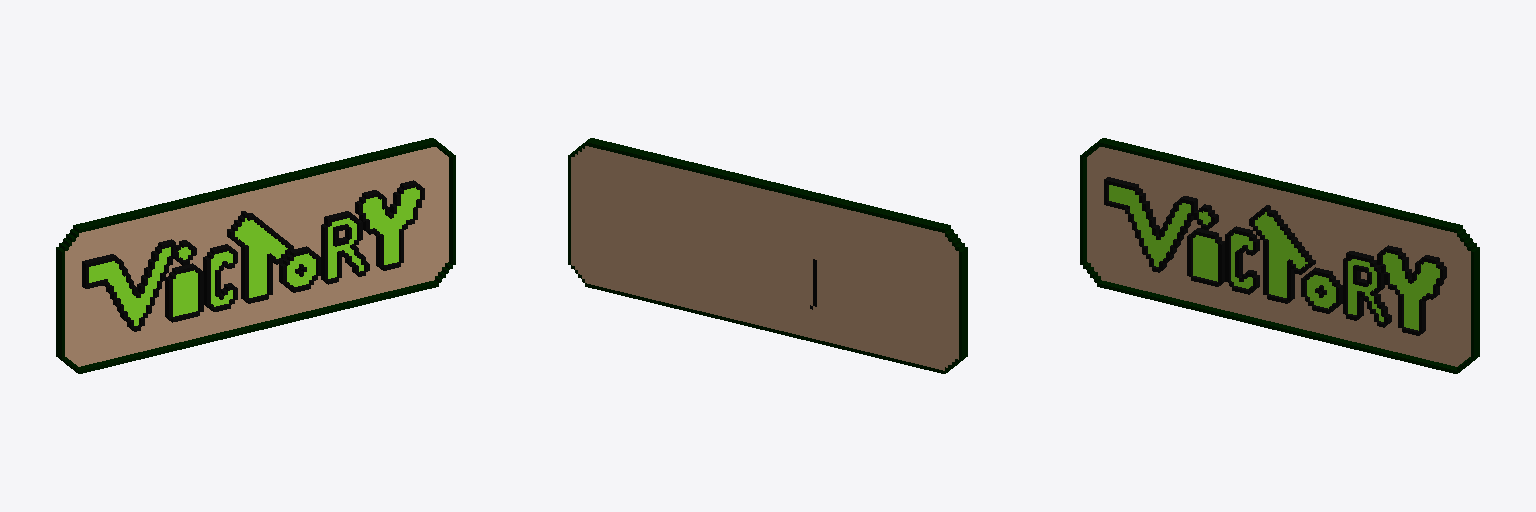
3 renders of one model, left to right at view 1: azimuth 30°, elevation 25°; view 2: azimuth 150°, elevation 25°; view 3: azimuth 330°, elevation 25°, orthographic.
Parts seen in each view (by area): view 1: object 1; view 2: object 1; view 3: object 1.
Boxes of the visible parts, x1=… form: object 1: x1=56, y1=138, x2=455, y2=373; object 1: x1=568, y1=138, x2=967, y2=373; object 1: x1=1080, y1=138, x2=1479, y2=373.
Size of the model in its own units: 11.4 by 4 by 0.3.
1 materials, 1 textured.